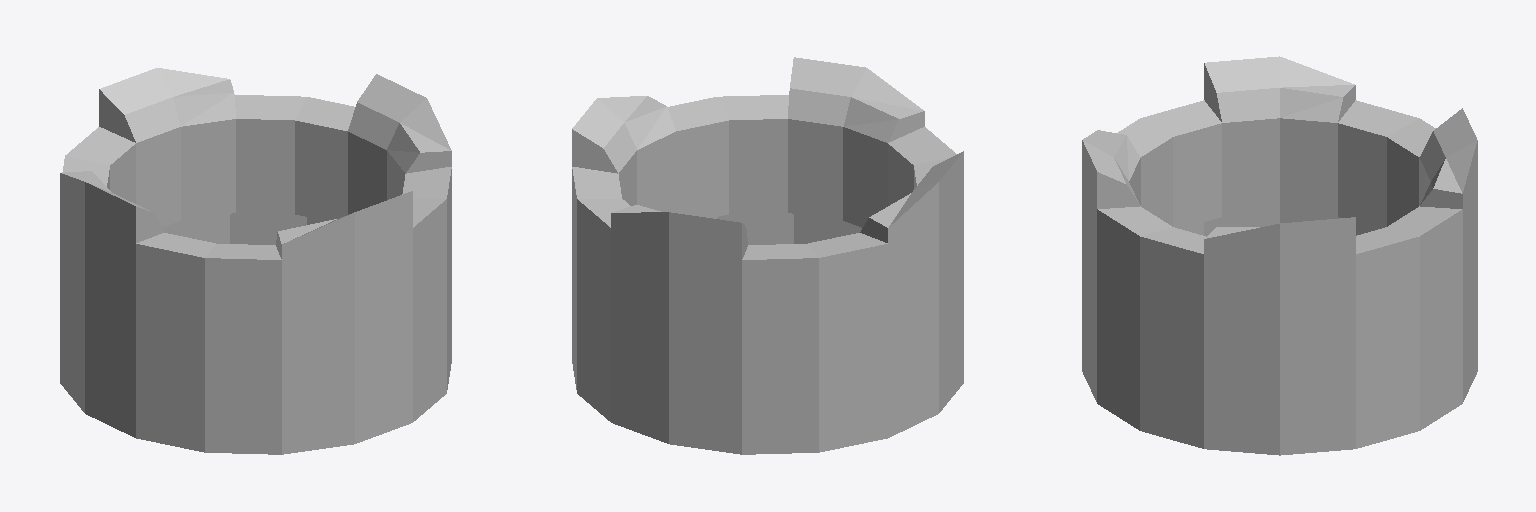
File: drill_blade3.obj
3 views of the same model, side by side, from view 1: azimuth 30°, elevation 25°; view 2: azimuth 150°, elevation 25°; view 3: azimuth 270°, elevation 25° (orthographic).
Visible parts, largest first — view 1: Cylinder.010_Cylinder.012; view 2: Cylinder.010_Cylinder.012; view 3: Cylinder.010_Cylinder.012.
Boxes of the visible parts, x1=… form: Cylinder.010_Cylinder.012: x1=60, y1=68, x2=451, y2=454; Cylinder.010_Cylinder.012: x1=572, y1=57, x2=963, y2=454; Cylinder.010_Cylinder.012: x1=1082, y1=56, x2=1477, y2=455.
Size of the model in its own units: 2.6 by 1.69 by 2.6.